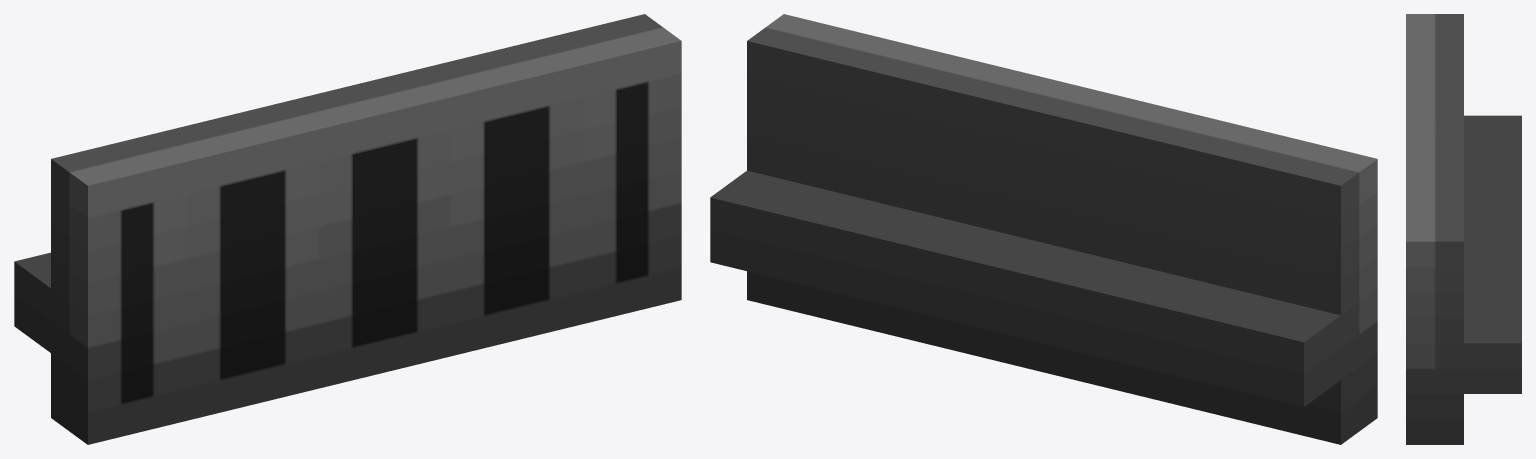
The model's file is Accessories007.fbx.
3 views of the same model, side by side, from view 1: azimuth 30°, elevation 25°; view 2: azimuth 150°, elevation 25°; view 3: azimuth 270°, elevation 25° (orthographic). The views are drawn at different scales.
Visible parts, largest first — view 1: Accessories007; view 2: Accessories007; view 3: Accessories007.
Boxes of the visible parts, <box> form: Accessories007: <box>14,14,681,444</box>; Accessories007: <box>710,14,1377,444</box>; Accessories007: <box>1406,14,1521,444</box>.
Size of the model in its own units: 19.19 by 8 by 4.12.
